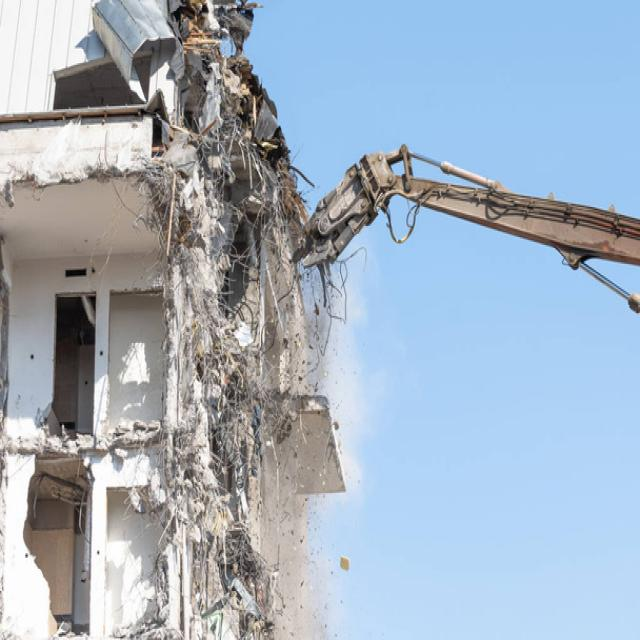Destroyed_building: (5, 0, 434, 640)
